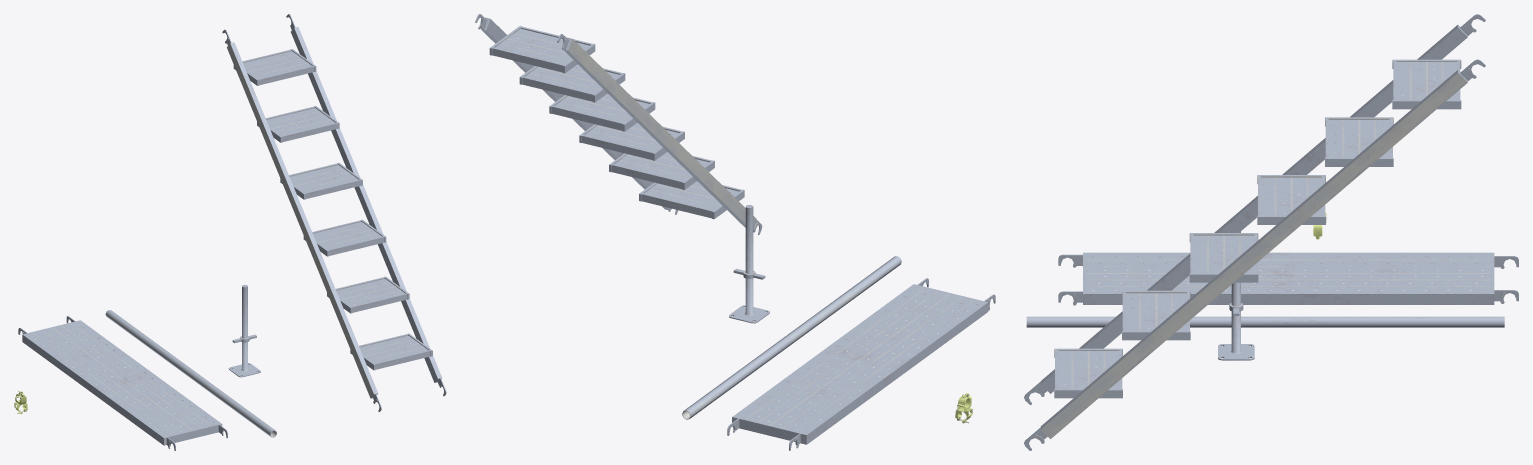
3 renders of one model, left to right at view 1: azimuth 30°, elevation 25°; view 2: azimuth 150°, elevation 25°; view 3: azimuth 270°, elevation 25°, orthographic. The views are drawn at different scales.
Parts seen in each view (by area): view 1: Cube.050, Cube.049, pipe_low.073, Circle.181; view 2: Cube.050, Cube.049, pipe_low.073, Circle.181; view 3: Cube.050, Cube.049, pipe_low.073, Circle.181.
Part boxes in pixels (x1,y1,x2,y2): Cube.050: (222,14,446,411); Cube.049: (18,316,227,450); pipe_low.073: (105,310,276,437); Circle.181: (228,285,260,377); Cube.050: (475,14,762,234); Cube.049: (727,278,995,450); pipe_low.073: (682,256,901,419); Circle.181: (729,205,769,323); Cube.050: (1024,14,1485,450); Cube.049: (1058,252,1518,305); pipe_low.073: (1026,316,1504,327); Circle.181: (1218,231,1254,360).
Bounding box in the file's own units: 232 × 188 × 207.
